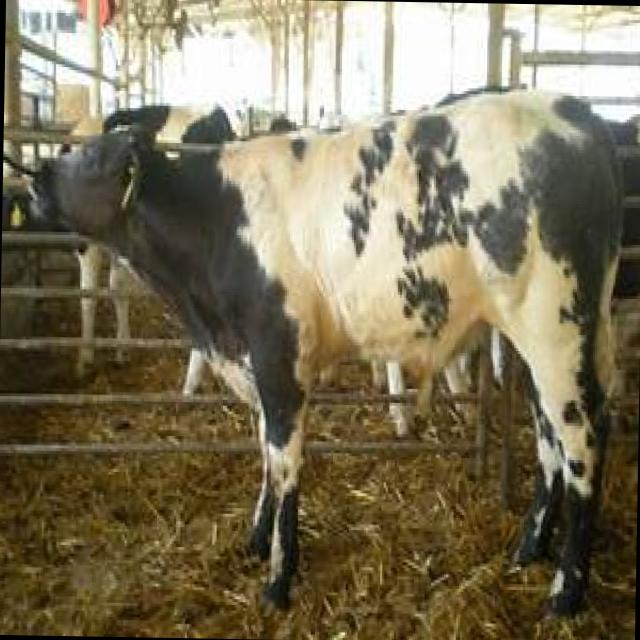animal: (21, 32, 616, 620)
